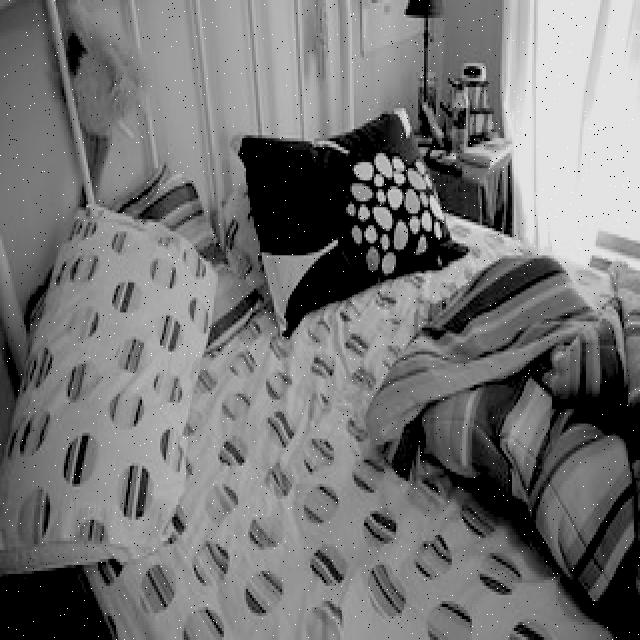bed: (2, 126, 640, 640)
